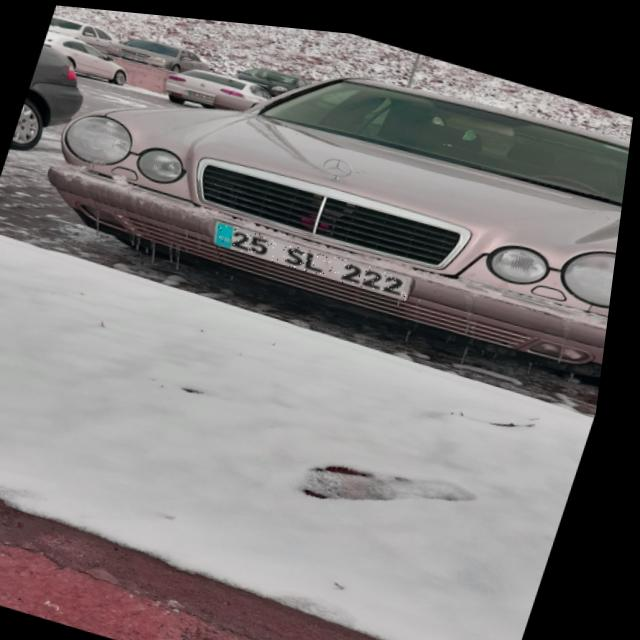license_plate: (212, 215, 424, 293)
